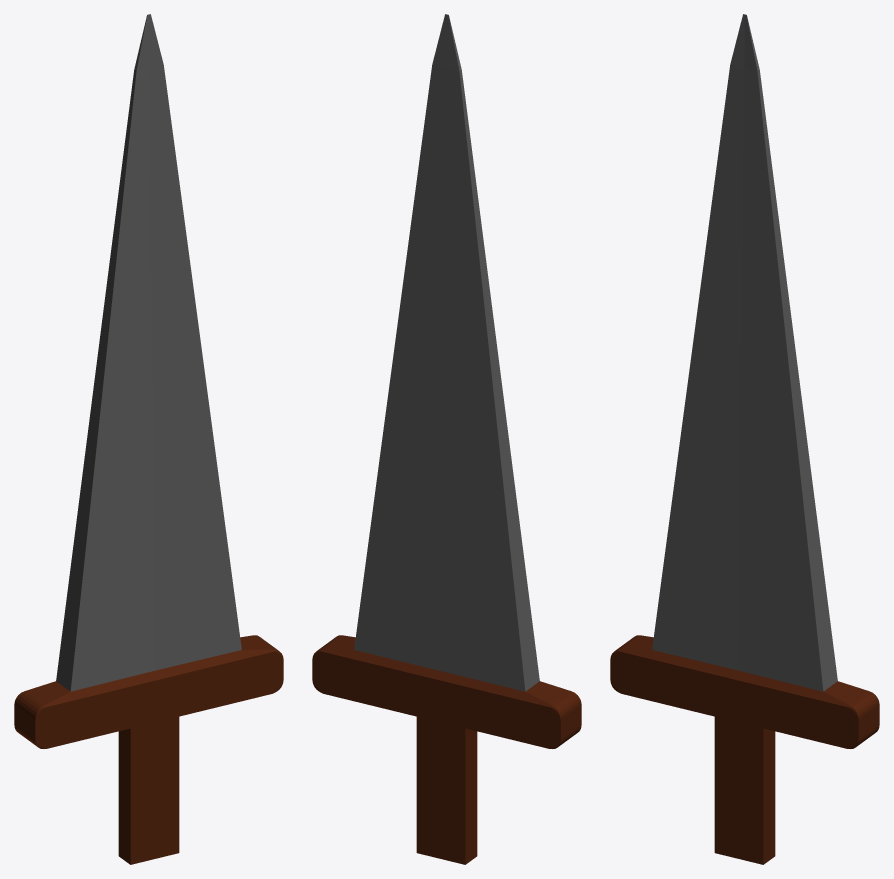
Rendered from Armaenemy2.fbx.
The picture shows the model from 3 angles, left to right: view 1: azimuth 30°, elevation 25°; view 2: azimuth 150°, elevation 25°; view 3: azimuth 330°, elevation 25°; orthographic projection.
Parts seen in each view (by area): view 1: Cube; view 2: Cube; view 3: Cube.
Boxes of the visible parts, bbox=[...] form: Cube: bbox=[14, 14, 283, 864]; Cube: bbox=[312, 14, 581, 864]; Cube: bbox=[610, 14, 879, 864].
Size of the model in its own units: 116 by 377 by 17.09.
